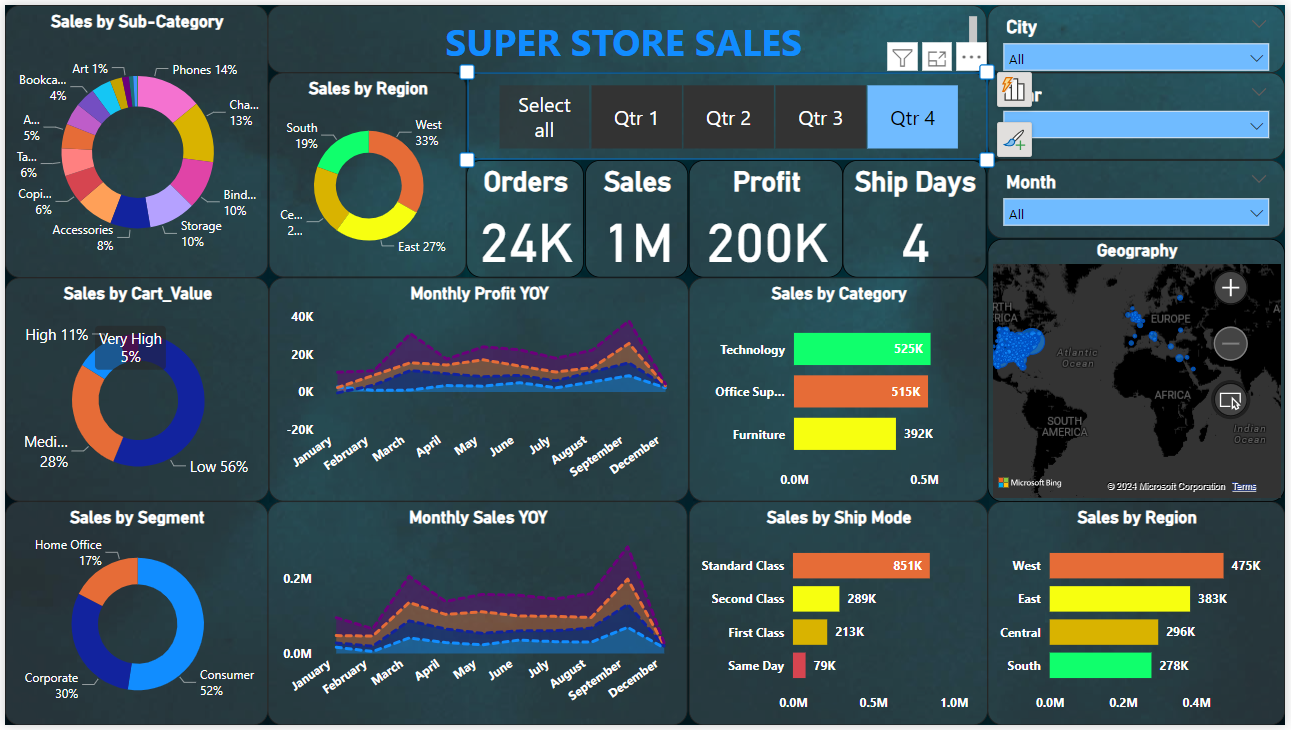

The dashboard page shown, as its layout file describes it:
{"tool":"powerbi","page":{"name":"Sales Dashboard","canvas":[1280,720],"ordinal":0},"visuals":[{"type":"textbox","box":[263.1,0,719.1,67.9],"z":0,"group":"g1"},{"type":"card","title":"Orders","fields":{"Values":["Sum(Orders.Quantity)"]},"box":[460.7,154.8,117.9,117.9],"z":1000,"group":"g1"},{"type":"card","title":"Sales","fields":{"Values":["Orders.Sales"]},"box":[579.8,154.8,103.6,117.9],"z":2000,"group":"g1"},{"type":"slicer","fields":{"Values":["Orders.Address Hierarchy.City"]},"box":[982.1,0,297.6,67.9],"z":3000,"group":"g1"},{"type":"clusteredBarChart","title":"Sales by Ship Mode","fields":{"Category":["Orders.Ship Mode"],"Y":["Orders.Sales"]},"box":[683.1,496.7,299.1,224],"z":4000,"group":"g1"},{"type":"card","title":"Profit","fields":{"Values":["Orders.Profit"]},"box":[683.3,154.8,154.8,117.9],"z":5000,"group":"g1"},{"type":"card","title":"Ship Days","fields":{"Values":["Avg(Orders.Delivery Days)"]},"box":[838.1,154.8,144,117.9],"z":6000,"group":"g1"},{"type":"slicer","fields":{"Values":["Orders.Ship Date.Variation.Date Hierarchy.Year"]},"box":[982.1,67.9,297.6,86.9],"z":7000,"group":"g1"},{"type":"clusteredBarChart","title":"Sales by Category","fields":{"Category":["Orders.Category"],"Y":["Orders.Sales"]},"box":[683.1,272.7,299.1,224],"z":8000,"group":"g1"},{"type":"slicer","fields":{"Values":["Orders.Ship Date.Variation.Date Hierarchy.Month"]},"box":[982.1,154.8,297.6,78.6],"z":9000,"group":"g1"},{"type":"clusteredBarChart","title":"Sales by Region","fields":{"Category":["Orders.Region"],"Y":["Orders.Sales"]},"box":[982.3,496.7,297.7,224],"z":10000,"group":"g1"},{"type":"stackedAreaChart","title":"Monthly Sales YOY","fields":{"Y":["Orders.Sales"],"Category":["Orders.Order Date.Variation.Date Hierarchy.Month"],"Series":["Orders.Order Date.Variation.Date Hierarchy.Year"]},"box":[263,496.7,420,224],"z":11000,"group":"g1"},{"type":"stackedAreaChart","title":"Monthly Profit YOY","fields":{"Category":["Orders.Order Date.Variation.Date Hierarchy.Month"],"Series":["Orders.Order Date.Variation.Date Hierarchy.Year"],"Y":["Orders.Profit"]},"box":[264,272.7,420,224],"z":12000,"group":"g1"},{"type":"donutChart","fields":{"Category":["Orders.Sub-Category"],"Y":["Orders.Sales"]},"box":[0,0,263,272.7],"z":13000,"group":"g1"},{"type":"donutChart","fields":{"Y":["Orders.Sales"],"Category":["Orders.Region"]},"box":[264.3,67.9,197.6,204.8],"z":14000,"group":"g1"},{"type":"donutChart","fields":{"Y":["Orders.Sales"],"Category":["Orders.Segment"]},"box":[0,496.7,263,224],"z":15000,"group":"g1"},{"type":"map","title":"Geography","fields":{"Size":["Orders.Sales"],"Category":["Orders.Address Hierarchy.City"]},"box":[982.3,233.7,297.7,263],"z":16000,"group":"g1"},{"type":"slicer","fields":{"Values":["Orders.Ship Date.Variation.Date Hierarchy.Quarter"]},"box":[461.9,67.9,520.2,86.9],"z":17000,"group":"g1"},{"type":"donutChart","fields":{"Category":["Orders.Cart_Value"],"Y":["Orders.Sales"]},"box":[0,272.6,264.3,223.8],"z":18000,"group":"g1"},{"type":"group","id":"g1","title":"Group 1","box":[0,0,1280,720.7],"z":18001}]}

Visuals, with their boxes in screenshot pixels (x1, y1, x2, y2), scaled from the page's 1280x720 canvas onto the 1291x730 screenshot:
textbox: pyautogui.locateOnScreen(265, 0, 991, 69)
"Orders" card: pyautogui.locateOnScreen(465, 157, 584, 276)
"Sales" card: pyautogui.locateOnScreen(585, 157, 689, 276)
slicer - Orders.Address Hierarchy.City: pyautogui.locateOnScreen(991, 0, 1290, 69)
"Sales by Ship Mode" clusteredBarChart: pyautogui.locateOnScreen(689, 504, 991, 729)
"Profit" card: pyautogui.locateOnScreen(689, 157, 845, 276)
"Ship Days" card: pyautogui.locateOnScreen(845, 157, 991, 276)
slicer - Orders.Ship Date.Variation.Date Hierarchy.Year: pyautogui.locateOnScreen(991, 69, 1290, 157)
"Sales by Category" clusteredBarChart: pyautogui.locateOnScreen(689, 276, 991, 504)
slicer - Orders.Ship Date.Variation.Date Hierarchy.Month: pyautogui.locateOnScreen(991, 157, 1290, 237)
"Sales by Region" clusteredBarChart: pyautogui.locateOnScreen(991, 504, 1290, 729)
"Monthly Sales YOY" stackedAreaChart: pyautogui.locateOnScreen(265, 504, 689, 729)
"Monthly Profit YOY" stackedAreaChart: pyautogui.locateOnScreen(266, 276, 690, 504)
donutChart - Orders.Sub-Category x Orders.Sales: pyautogui.locateOnScreen(0, 0, 265, 276)
donutChart - Orders.Sales x Orders.Region: pyautogui.locateOnScreen(267, 69, 466, 276)
donutChart - Orders.Sales x Orders.Segment: pyautogui.locateOnScreen(0, 504, 265, 729)
"Geography" map: pyautogui.locateOnScreen(991, 237, 1290, 504)
slicer - Orders.Ship Date.Variation.Date Hierarchy.Quarter: pyautogui.locateOnScreen(466, 69, 991, 157)
donutChart - Orders.Cart_Value x Orders.Sales: pyautogui.locateOnScreen(0, 276, 267, 503)
"Group 1" group: pyautogui.locateOnScreen(0, 0, 1290, 729)
